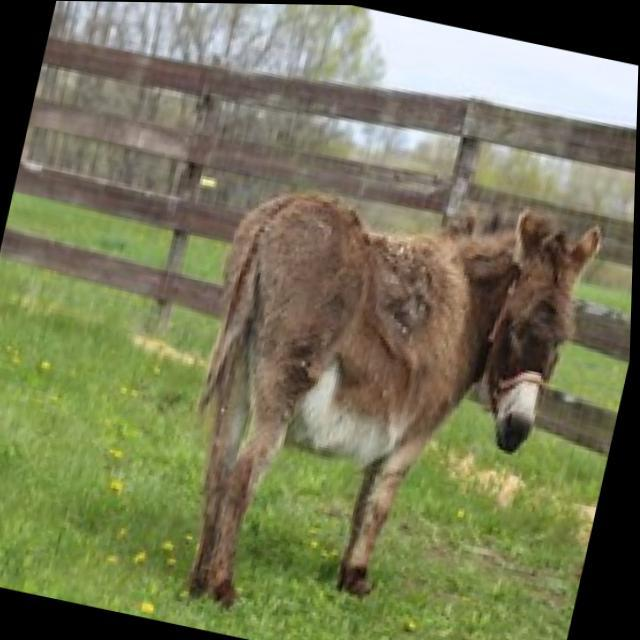Donkey: (170, 135, 637, 640)
